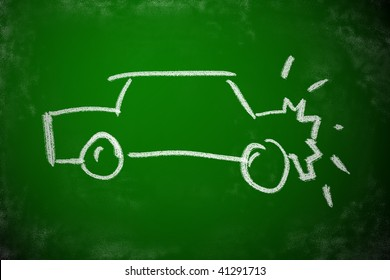car: (39, 68, 325, 194)
